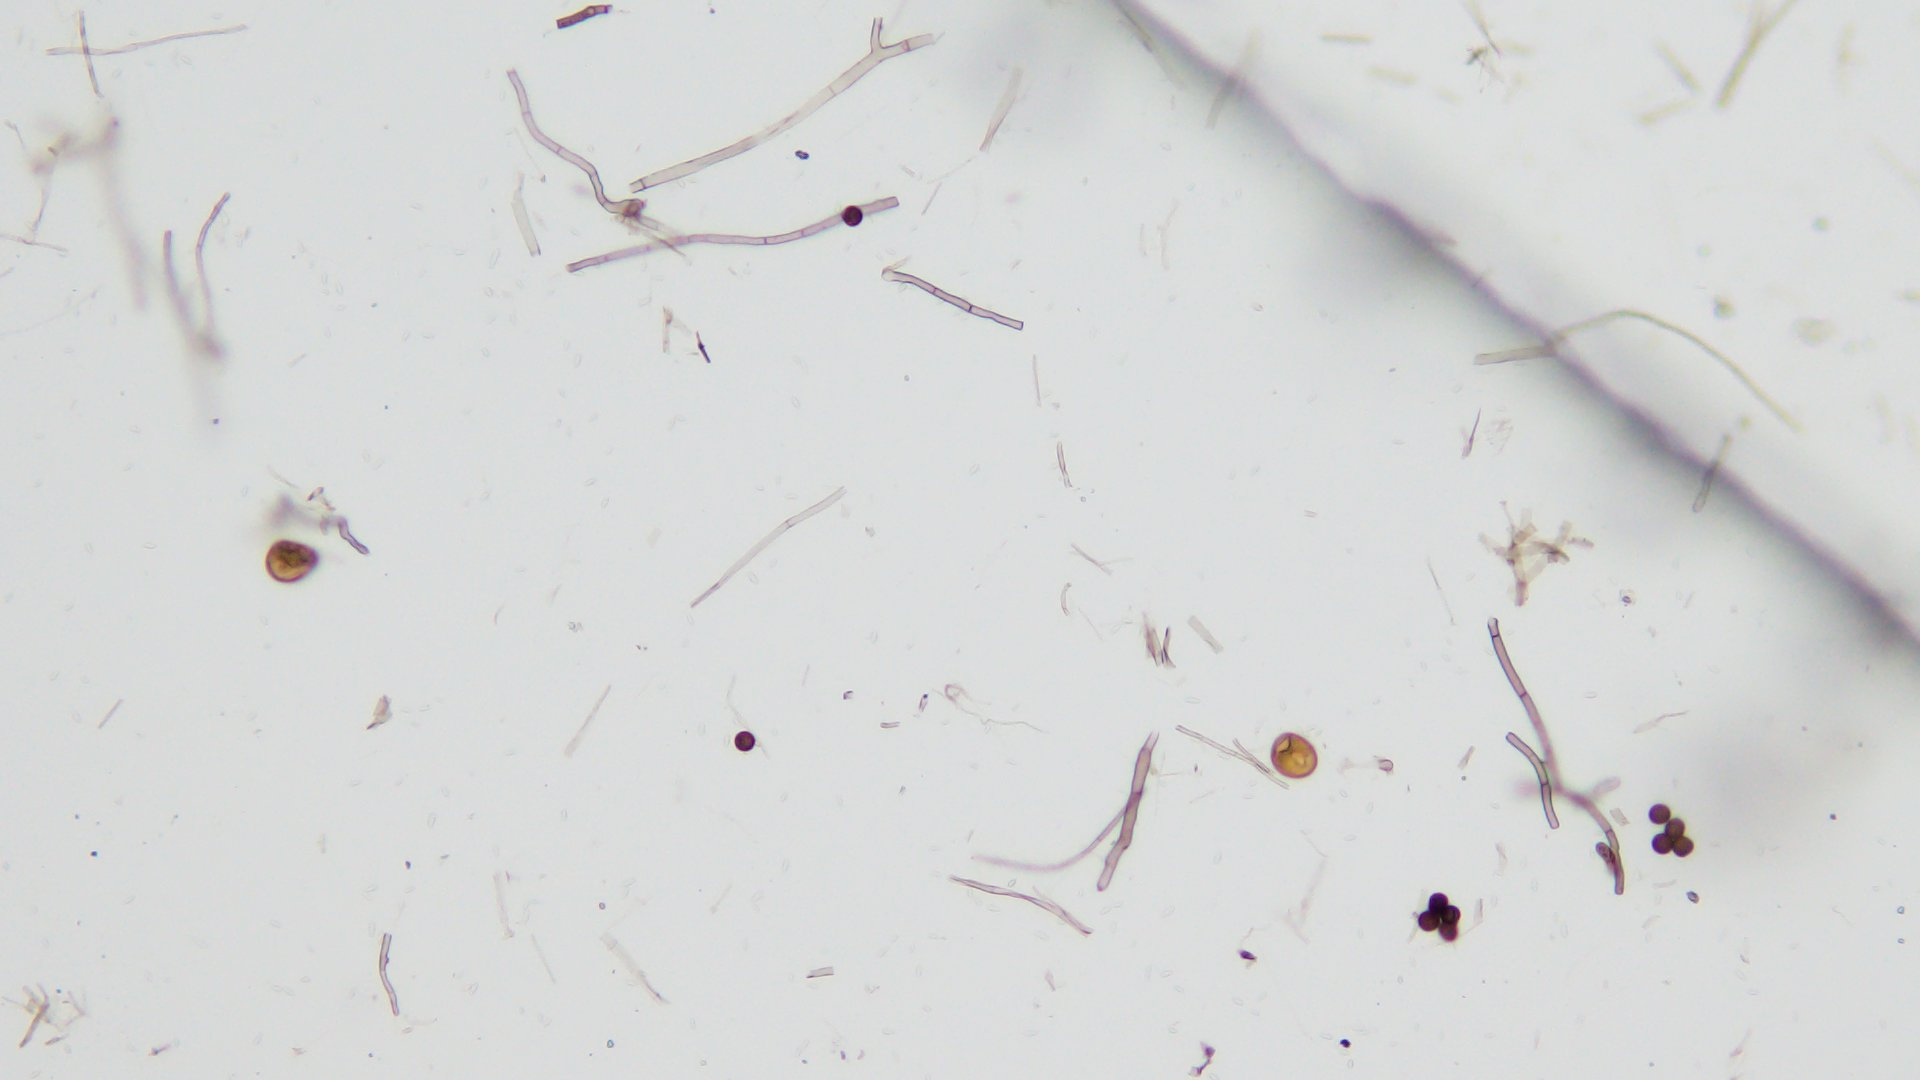shs_spore: (840, 204, 862, 228), (1418, 909, 1440, 931), (1427, 893, 1449, 913), (1672, 837, 1692, 858), (1667, 819, 1687, 839), (1648, 803, 1669, 822), (1440, 920, 1458, 942), (1440, 906, 1458, 926), (1652, 835, 1669, 855)
xb_spore: (264, 537, 319, 582), (1271, 728, 1317, 775)
